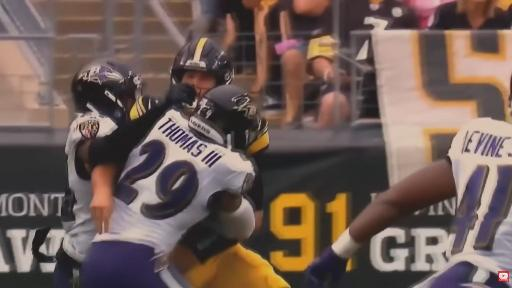Helmet: (189, 85, 260, 151), (71, 59, 142, 122), (170, 38, 234, 85)
Jersey: (94, 110, 254, 253), (447, 118, 511, 272), (61, 113, 117, 262), (180, 222, 238, 262)
Player: (81, 86, 259, 287), (307, 118, 511, 287), (54, 59, 194, 287), (54, 60, 141, 287), (172, 223, 289, 287)
